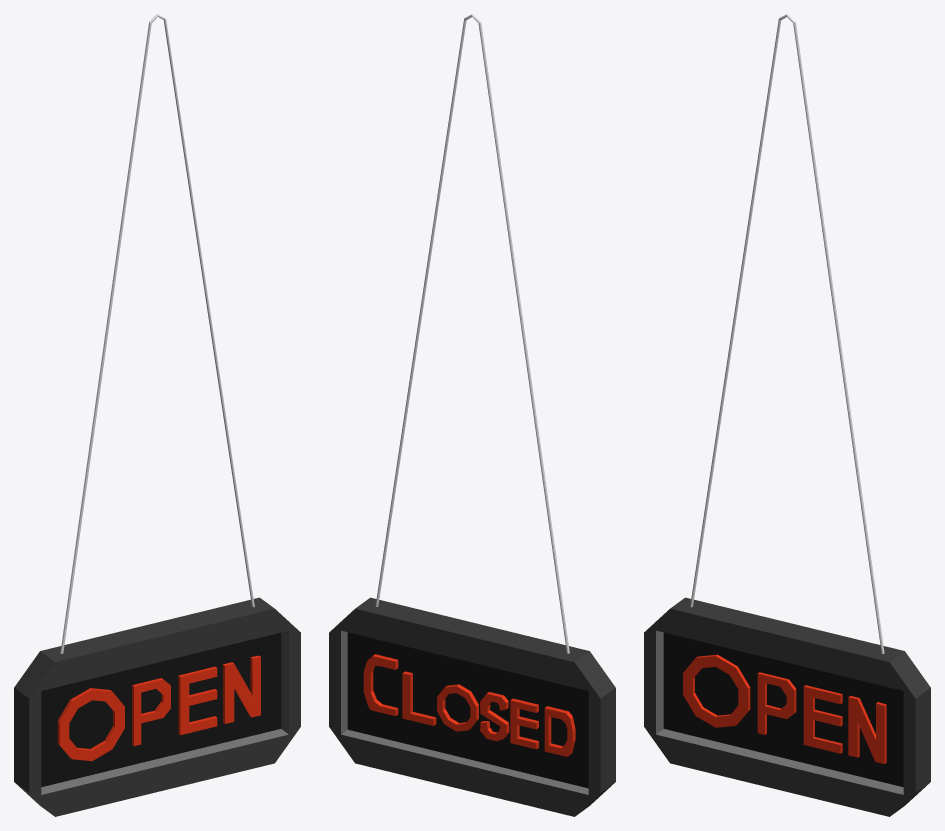
Rendered from WindowAcc_Sign.fbx.
3 renders of one model, left to right at view 1: azimuth 30°, elevation 25°; view 2: azimuth 150°, elevation 25°; view 3: azimuth 330°, elevation 25°, orthographic.
Visible parts, largest first — view 1: WindowAcc_Sign; view 2: WindowAcc_Sign; view 3: WindowAcc_Sign.
Boxes of the visible parts, x1,y1,x2,y2 form: WindowAcc_Sign: [14, 14, 300, 816]; WindowAcc_Sign: [329, 14, 615, 816]; WindowAcc_Sign: [644, 14, 930, 816].
Bounding box in the file's own units: 20.49 × 55.57 × 1.99.
